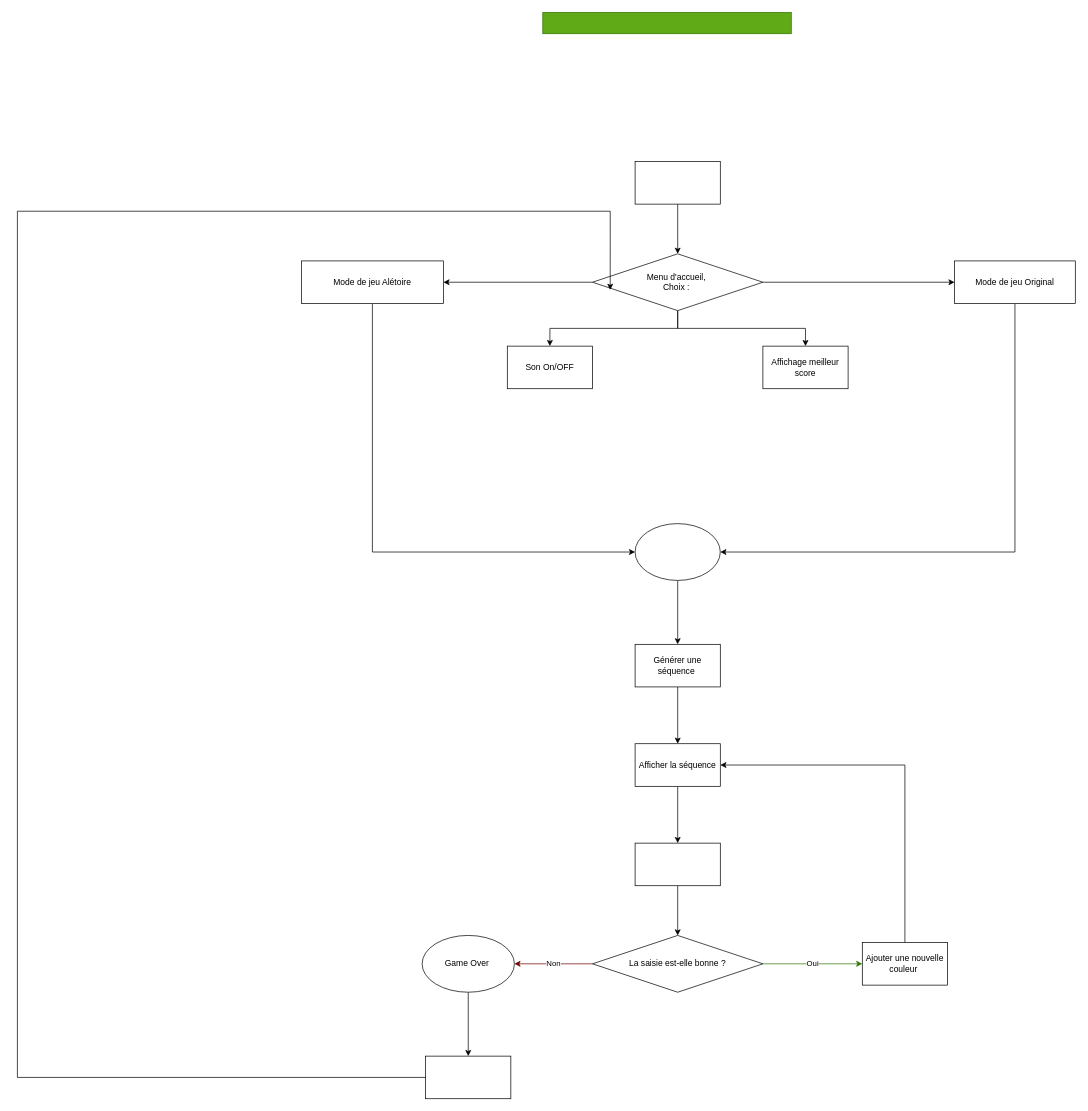
Some shapes in this 1088 by 1111 pixel diagram are drawn without their labels. Each missing label, with the centre of its shape:
Attendre saisie joueur: point 677,864
Bienvenue sur Si-mon-tour: point 677,182
Diagramme UX-UI,: point 666,23
Début du jeu: point 677,551
Erreur ! Score : $score: point 468,1077
